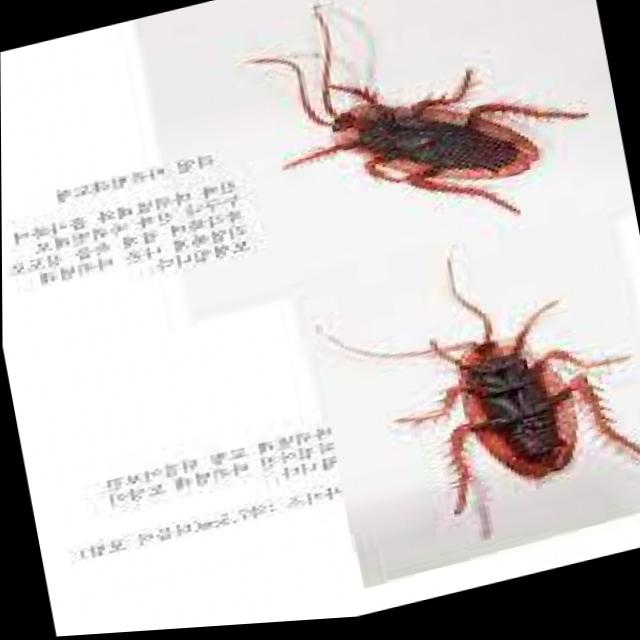Cockroach: (216, 0, 614, 290), (339, 225, 640, 568)
